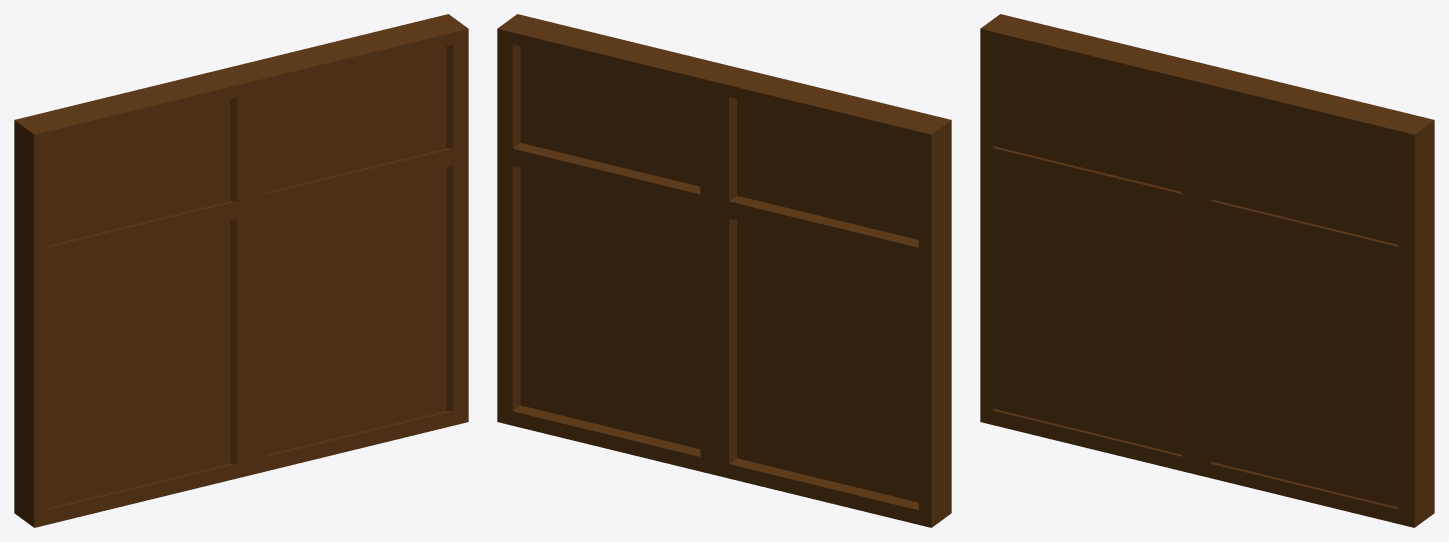
Rendered from HouseWindow.fbx.
3 views of the same model, side by side, from view 1: azimuth 30°, elevation 25°; view 2: azimuth 150°, elevation 25°; view 3: azimuth 330°, elevation 25° (orthographic).
Visible parts, largest first — view 1: Cube.031, Cube.033; view 2: Cube.031, Cube.033; view 3: Cube.033, Cube.031.
Part boxes in pixels (bbox=[...]): Cube.031: bbox=[14, 67, 251, 527]; Cube.033: bbox=[232, 14, 468, 474]; Cube.031: bbox=[714, 67, 951, 527]; Cube.033: bbox=[497, 14, 733, 474]; Cube.033: bbox=[1197, 67, 1434, 527]; Cube.031: bbox=[980, 14, 1216, 474].
Bounding box in the file's own units: 9.81 × 122 × 106.
